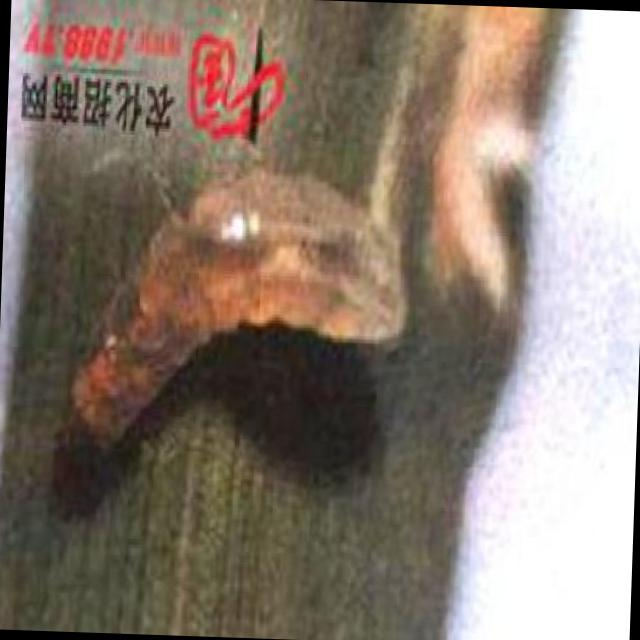whorl-maggot: (72, 167, 405, 467)
